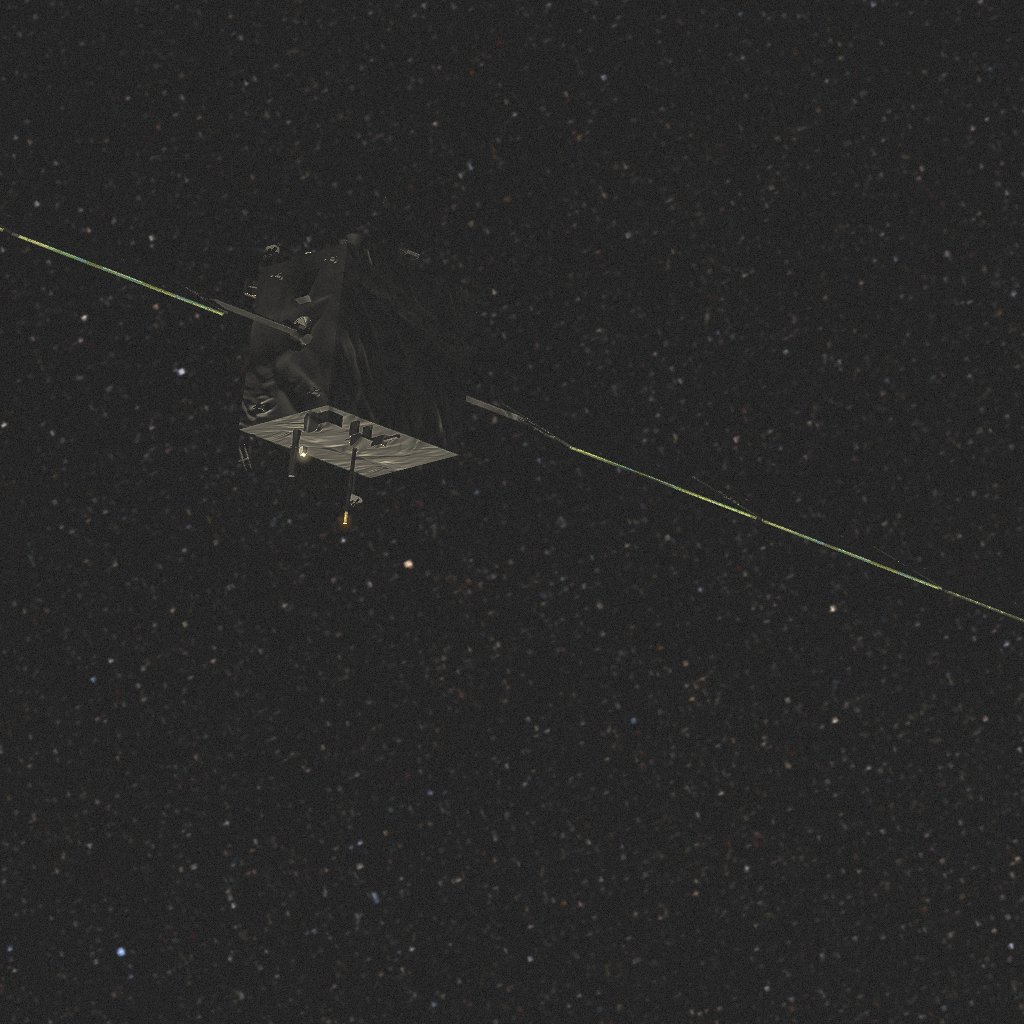smart_1: (30, 199, 1005, 633)
